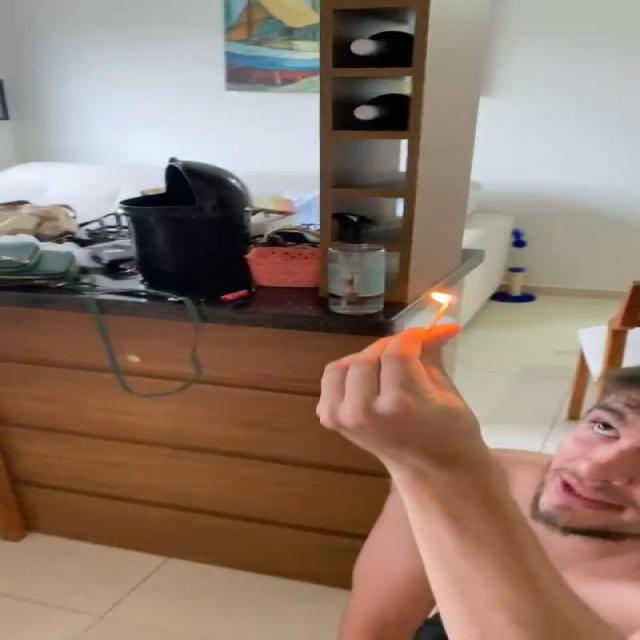fogo-ypXI: (427, 287, 459, 306)
